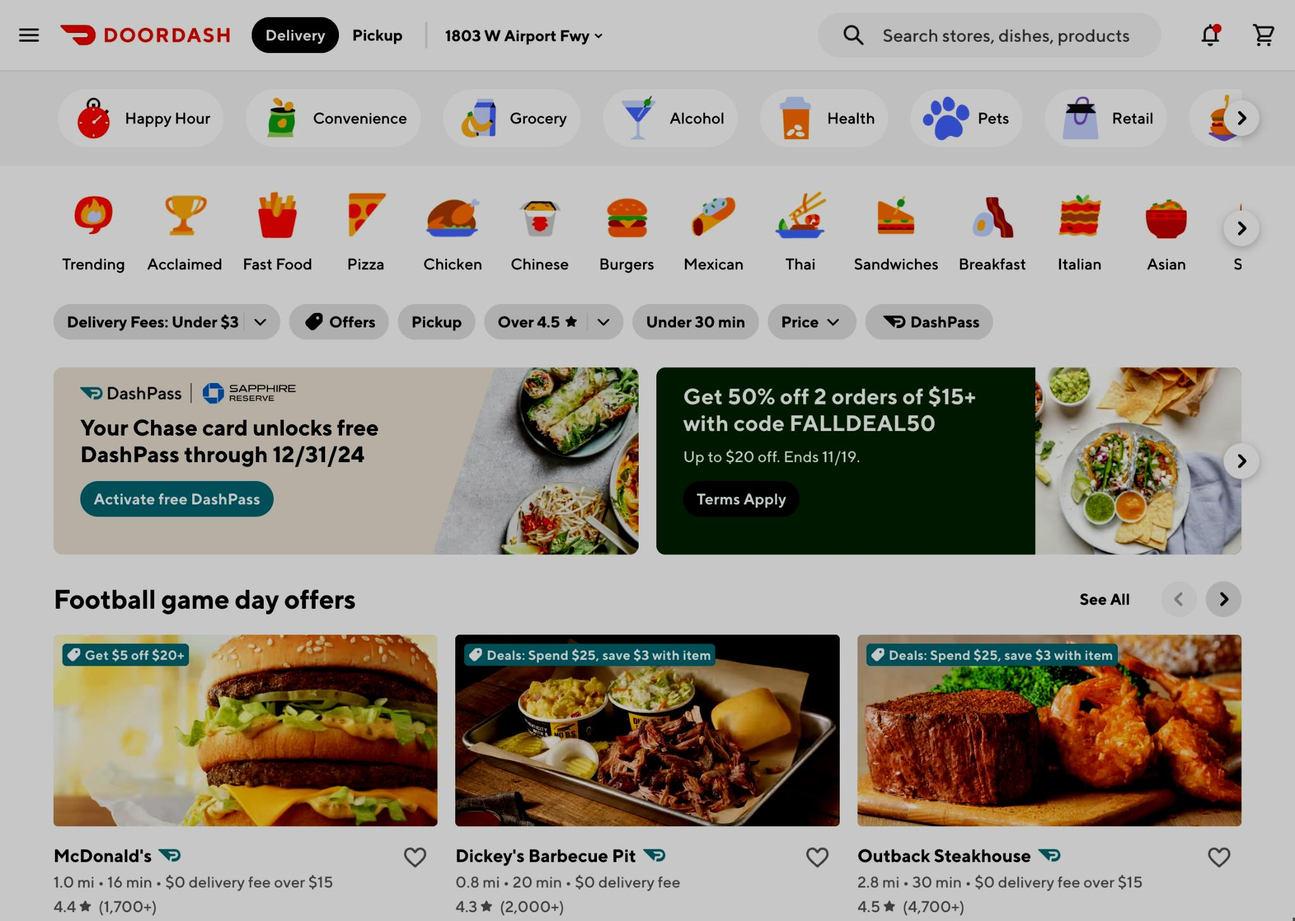webelement: (52, 367, 637, 554), (655, 367, 1240, 554), (52, 634, 437, 825), (856, 634, 1241, 825), (455, 634, 839, 825), (52, 839, 437, 921), (856, 839, 1241, 921), (455, 839, 839, 921), (79, 413, 404, 467), (682, 382, 1007, 436), (53, 580, 354, 616), (245, 88, 420, 146), (57, 88, 223, 146), (142, 176, 226, 279), (52, 895, 437, 917), (856, 895, 1241, 917), (455, 895, 839, 917), (53, 303, 279, 339), (441, 88, 579, 146), (602, 88, 736, 146), (55, 176, 130, 279), (759, 88, 887, 146), (1258, 634, 1295, 825), (1044, 88, 1165, 146), (79, 480, 273, 516), (1258, 367, 1295, 554), (909, 88, 1021, 146), (882, 23, 1147, 47), (79, 382, 366, 404), (856, 870, 1141, 892), (1188, 88, 1295, 146), (52, 870, 332, 892), (484, 303, 623, 339), (455, 870, 680, 892), (632, 303, 758, 339), (486, 644, 711, 664), (887, 644, 1112, 664), (455, 843, 635, 867), (682, 480, 799, 516), (856, 843, 1029, 867), (682, 445, 859, 467), (288, 303, 388, 339), (66, 312, 265, 330), (59, 25, 228, 45), (1258, 839, 1295, 921), (251, 17, 337, 52), (92, 489, 259, 507), (1053, 90, 1107, 143), (66, 90, 119, 143), (254, 90, 307, 143), (450, 90, 503, 143), (611, 90, 664, 143), (768, 90, 821, 143), (919, 90, 972, 143), (1197, 90, 1250, 143), (397, 303, 473, 339), (1066, 580, 1142, 616), (338, 17, 414, 52), (878, 308, 978, 334), (444, 26, 588, 44), (52, 843, 150, 867), (312, 106, 406, 128), (497, 312, 610, 330), (83, 644, 183, 664), (6, 13, 50, 57), (1241, 13, 1285, 57), (124, 106, 209, 128), (853, 252, 937, 274), (646, 312, 744, 330), (146, 252, 222, 274), (696, 489, 785, 507), (242, 252, 312, 274), (958, 252, 1025, 274), (498, 895, 563, 917), (61, 252, 123, 274), (902, 895, 964, 917), (682, 252, 742, 274), (301, 312, 374, 330), (423, 252, 482, 274), (97, 895, 156, 917), (509, 252, 567, 274), (241, 303, 276, 339), (586, 303, 621, 339), (397, 839, 433, 874), (1200, 839, 1236, 874), (509, 106, 566, 128), (780, 311, 842, 331), (798, 839, 833, 874), (598, 252, 653, 274), (669, 106, 723, 128), (1196, 13, 1222, 57), (264, 26, 324, 44), (826, 106, 874, 128), (1057, 252, 1101, 274), (1111, 106, 1152, 128), (351, 26, 401, 44), (410, 312, 460, 330), (1079, 589, 1129, 607), (1258, 843, 1295, 867), (1255, 106, 1295, 128), (1233, 252, 1273, 274), (1146, 252, 1185, 274), (346, 252, 383, 274), (1258, 870, 1295, 892), (1258, 895, 1295, 917), (977, 106, 1008, 128), (785, 252, 815, 274), (39, 311, 66, 331), (1285, 382, 1295, 436), (856, 895, 879, 917), (52, 895, 74, 917), (455, 895, 477, 917), (1258, 895, 1280, 917), (1285, 480, 1295, 516), (1285, 445, 1295, 467), (1285, 489, 1295, 507), (1290, 644, 1295, 664)
